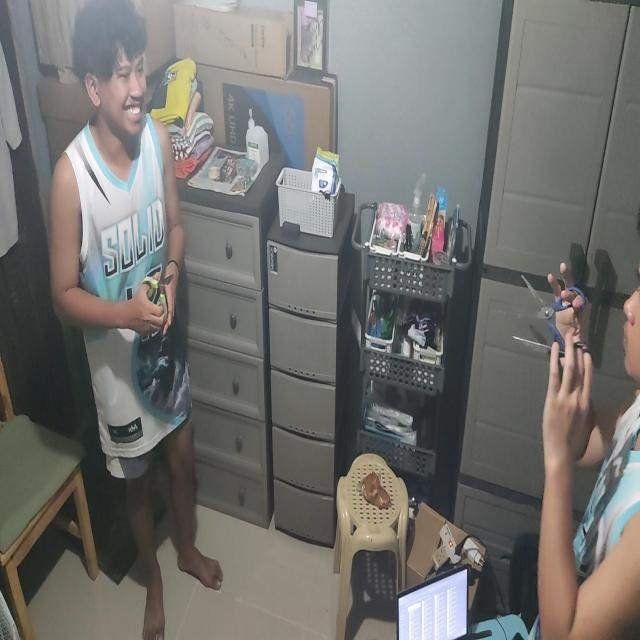scissor: (514, 271, 588, 360), (508, 330, 592, 391), (136, 253, 176, 336)
